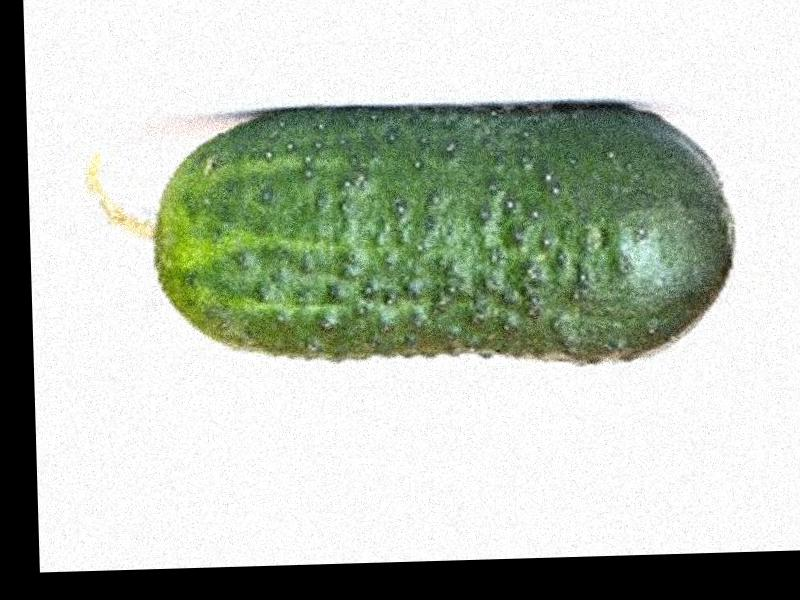Cucumber: (82, 94, 734, 382)
